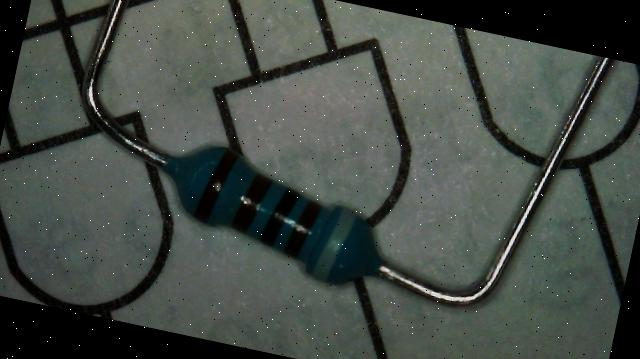black: (260, 184, 301, 248)
brown: (192, 143, 240, 225), (232, 171, 274, 236), (284, 196, 324, 260)
resistor: (146, 129, 409, 300)
white: (310, 204, 357, 284)
